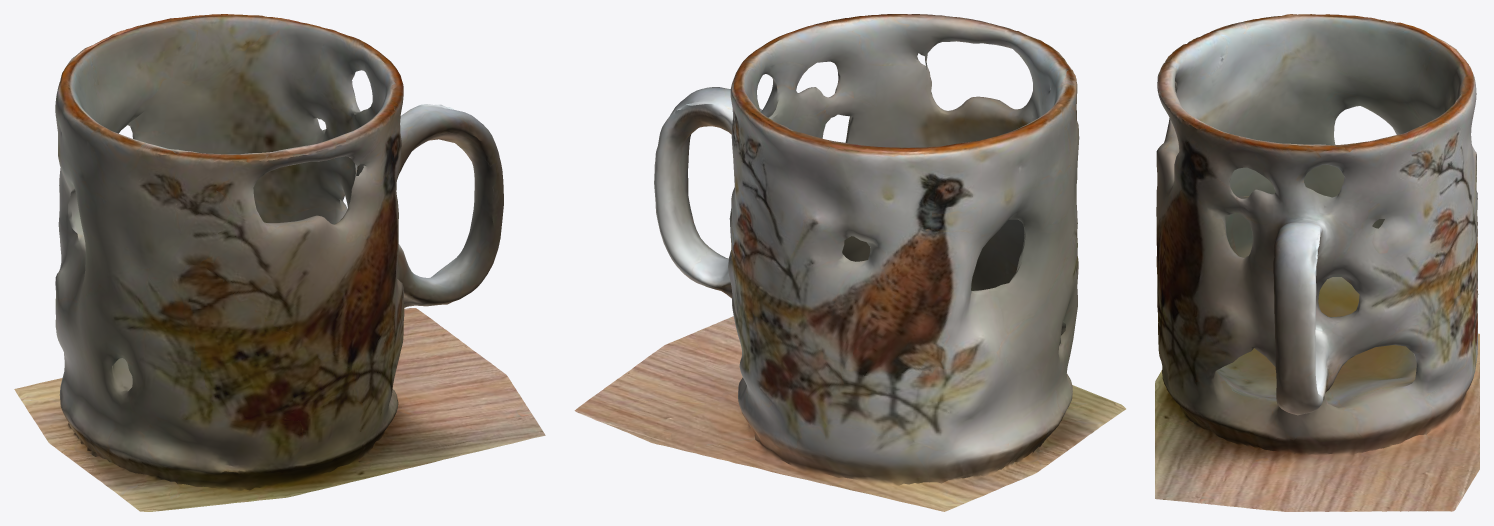
Rendered from broken_glass_cups.glb.
The picture shows the model from 3 angles, left to right: view 1: azimuth 30°, elevation 25°; view 2: azimuth 150°, elevation 25°; view 3: azimuth 270°, elevation 25°; orthographic projection. The views are drawn at different scales.
Parts seen in each view (by area): view 1: Object_2; view 2: Object_2; view 3: Object_2.
Boxes of the visible parts, left/top/right/bottom form: Object_2: left=14, top=14, right=545, bottom=511; Object_2: left=574, top=14, right=1125, bottom=511; Object_2: left=1155, top=14, right=1479, bottom=511.
Size of the model in its own units: 0.1433 by 0.1135 by 0.1047.
1 material, 1 textured.
